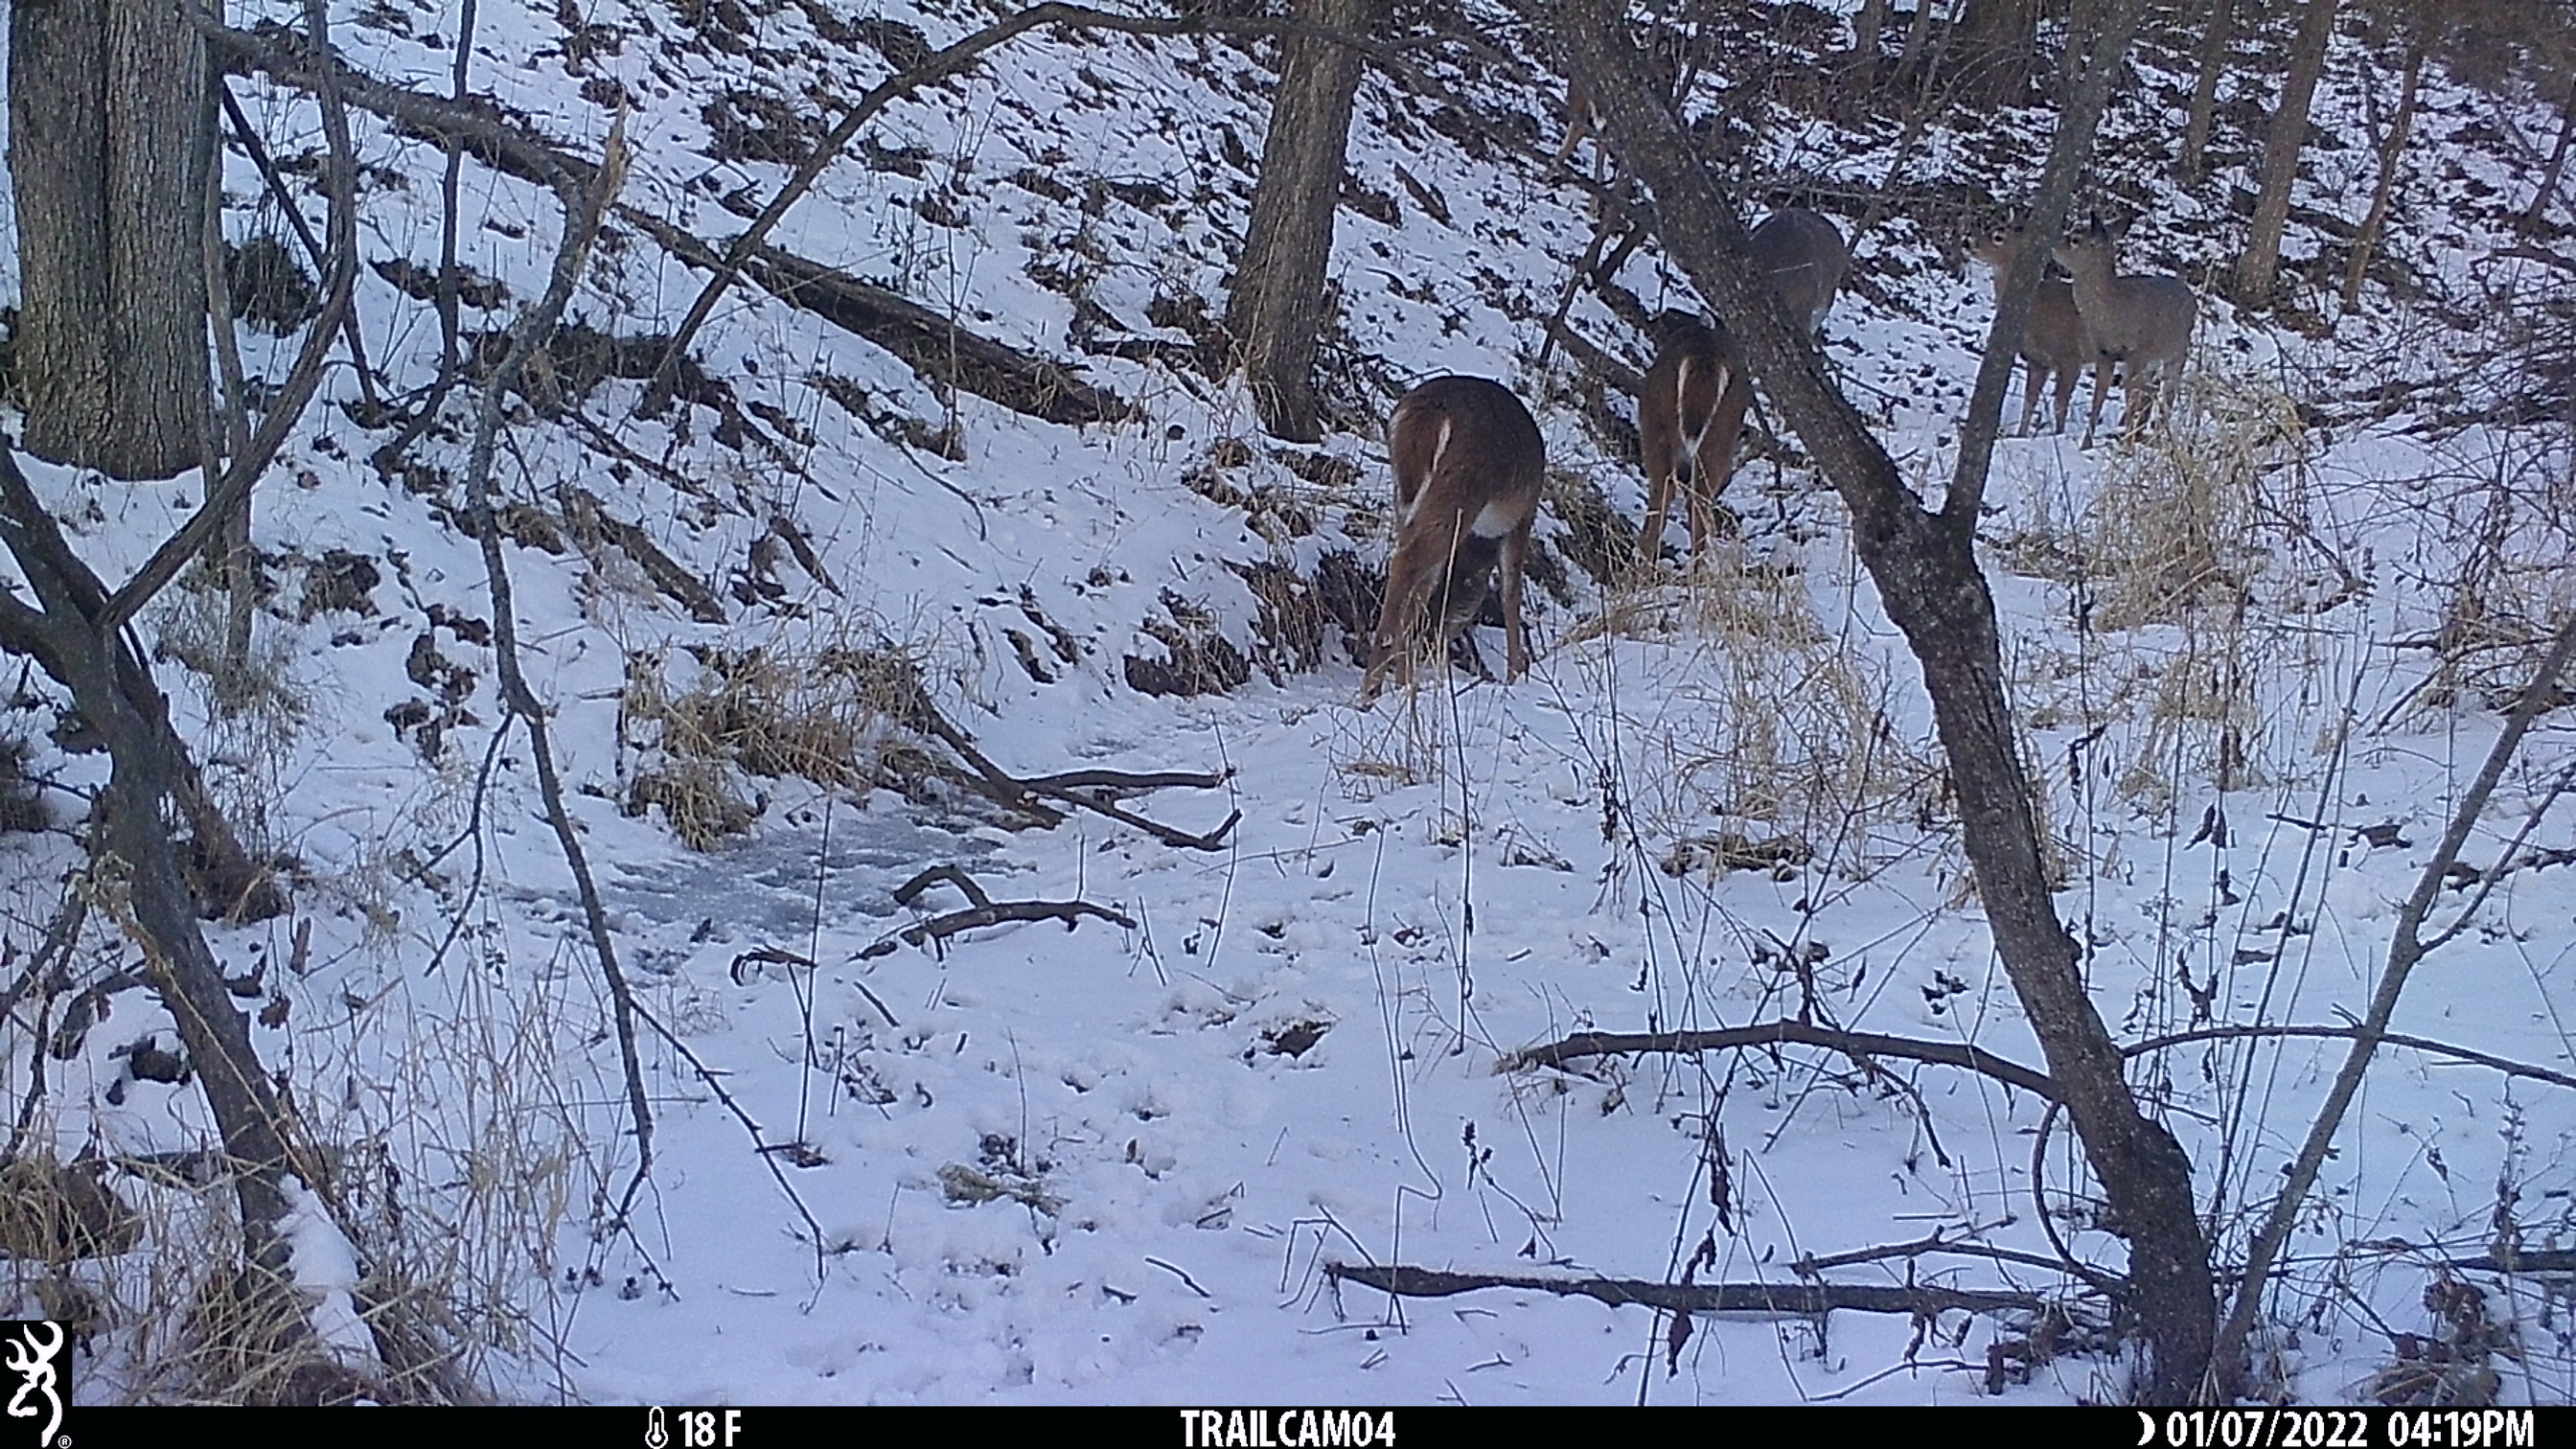Deer: (1364, 373, 1546, 701), (2051, 211, 2197, 446), (1959, 212, 2091, 439), (1637, 326, 1752, 554)
